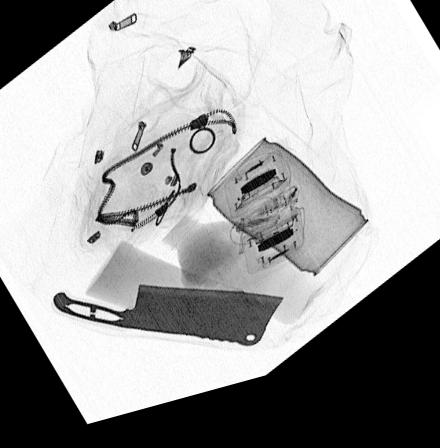Knife: (50, 292, 286, 363)
